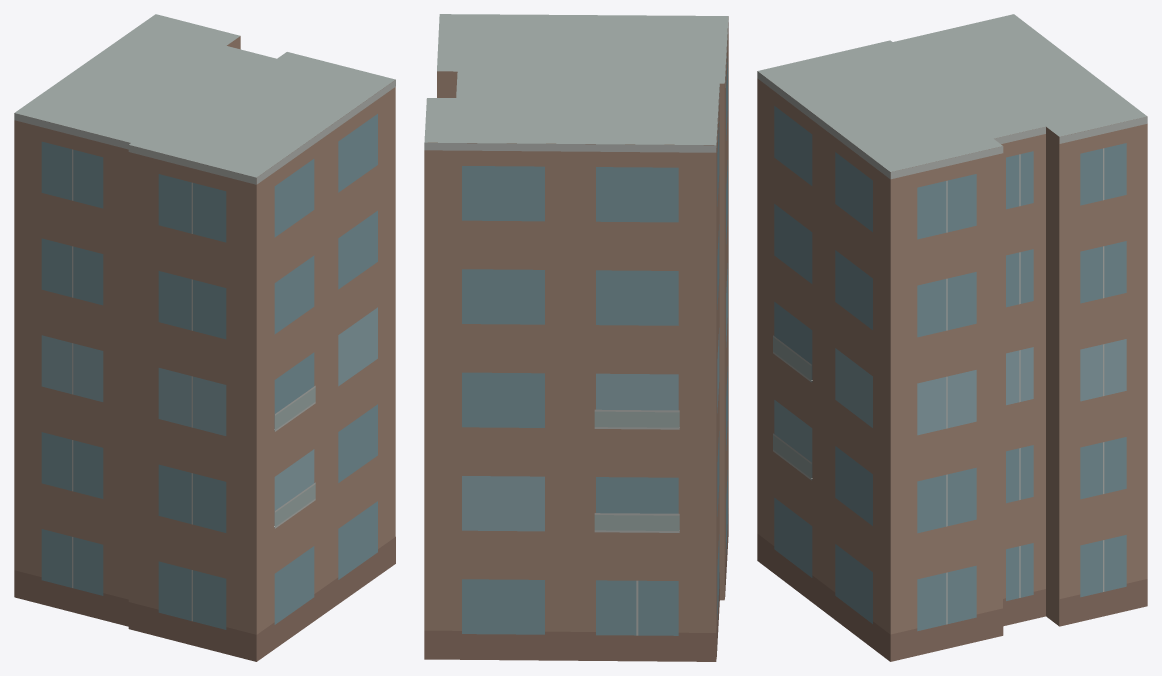
The model's file is survey-upis-33023842.glb.
3 renders of one model, left to right at view 1: azimuth 30°, elevation 25°; view 2: azimuth 150°, elevation 25°; view 3: azimuth 270°, elevation 25°, orthographic. The views are drawn at different scales.
Visible parts, largest first — view 1: survey-upis-33023842.tmp; view 2: survey-upis-33023842.tmp; view 3: survey-upis-33023842.tmp.
Boxes of the visible parts, <box> form: survey-upis-33023842.tmp: <box>14,14,395,661</box>; survey-upis-33023842.tmp: <box>424,14,728,661</box>; survey-upis-33023842.tmp: <box>757,14,1147,661</box>.
Size of the model in its own units: 11.4 by 16.45 by 11.89.
